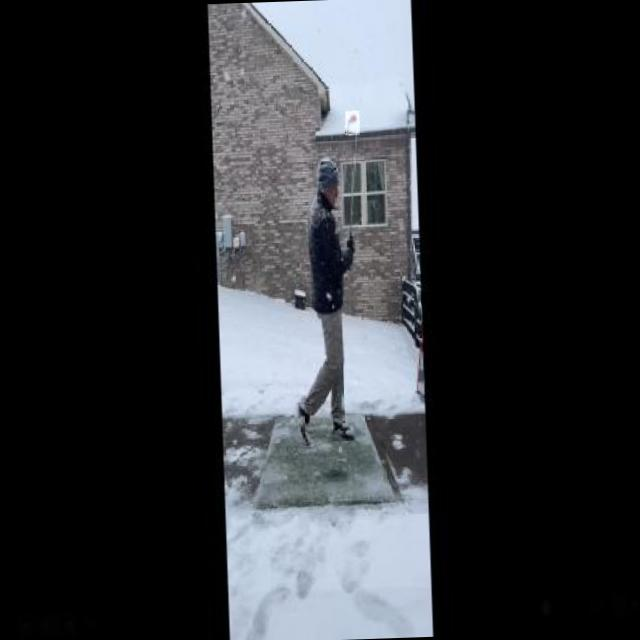club head: (344, 110, 360, 136)
